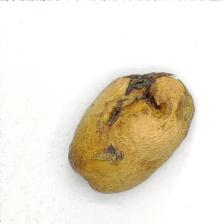NG: (104, 71, 175, 129), (91, 139, 132, 169)
